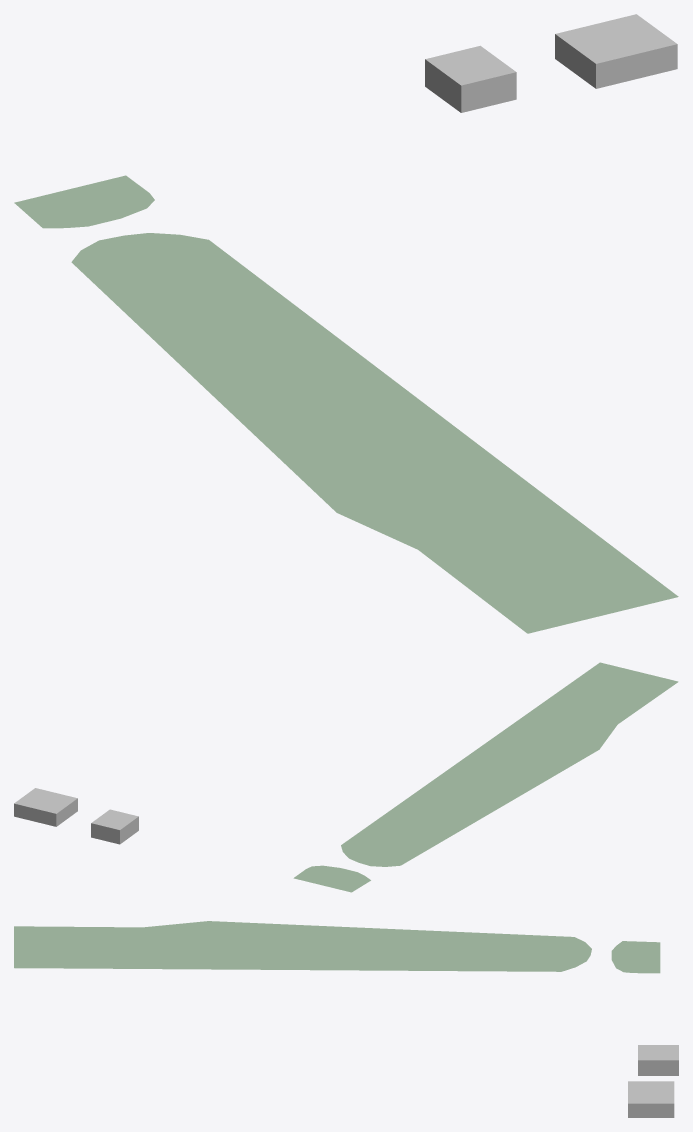
File: 110_86_mid.glb
3 renders of one model, top to bottom at view 1: azimuth 30°, elevation 25°; view 2: azimuth 150°, elevation 25°; view 3: azimuth 270°, elevation 25°, orthographic. The views are drawn at different scales.
Size of the model in its own units: 360 by 13.3 by 514.
